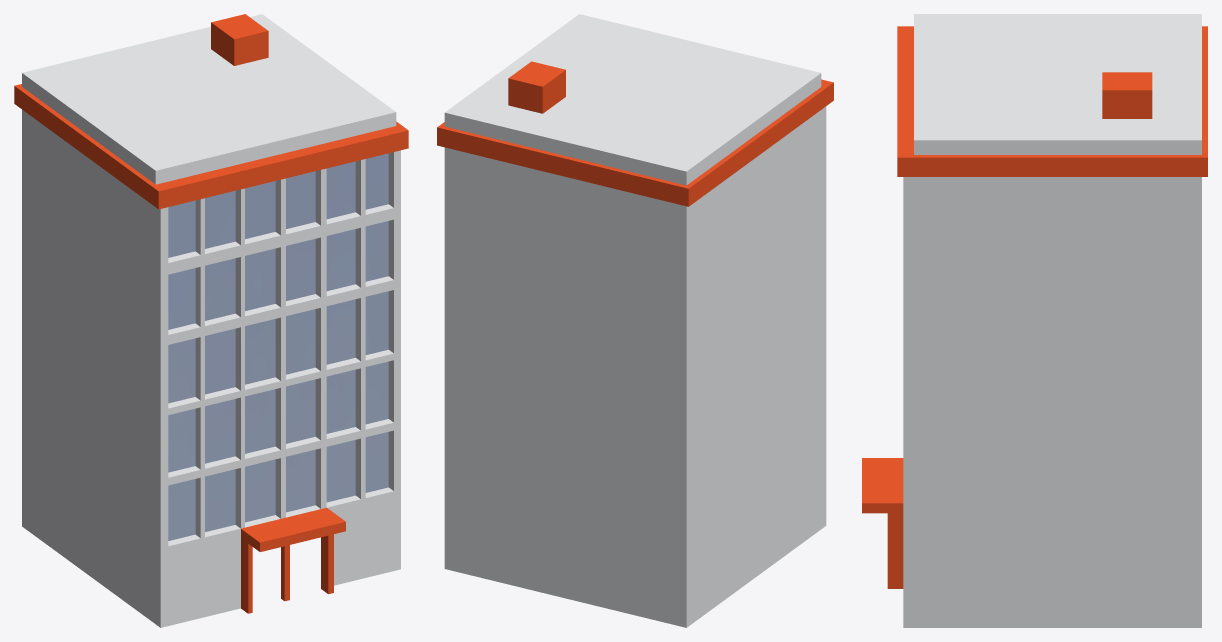
Rendered from Build1.fbx.
The picture shows the model from 3 angles, left to right: view 1: azimuth 30°, elevation 25°; view 2: azimuth 150°, elevation 25°; view 3: azimuth 270°, elevation 25°; orthographic projection. The views are drawn at different scales.
Parts seen in each view (by area): view 1: Build1; view 2: Build1; view 3: Build1.
Boxes of the visible parts, left/top/right/bottom form: Build1: left=14, top=14, right=408, bottom=627; Build1: left=437, top=14, right=833, bottom=627; Build1: left=862, top=14, right=1207, bottom=627.
Size of the model in its own units: 1.57 by 2.89 by 1.75.
